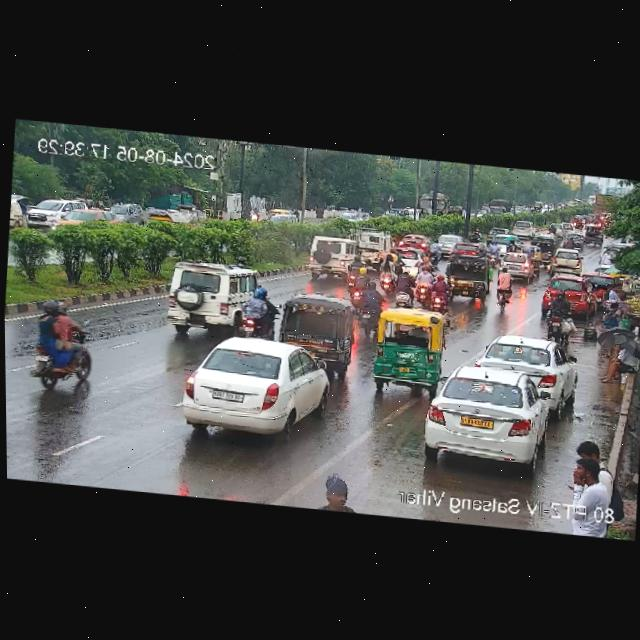car: (422, 362, 567, 471), (180, 335, 324, 441), (163, 261, 258, 336), (474, 332, 574, 400), (375, 306, 449, 394), (276, 296, 358, 360), (302, 234, 362, 284), (442, 254, 497, 299), (19, 193, 85, 227), (542, 275, 593, 310), (495, 251, 535, 280), (112, 196, 142, 234), (546, 247, 583, 273), (528, 236, 558, 266), (578, 222, 603, 244), (506, 218, 534, 236), (271, 205, 299, 223), (434, 233, 466, 247), (452, 241, 482, 255)
motorcycle: (29, 304, 94, 392), (238, 291, 276, 339), (416, 263, 451, 309), (540, 286, 574, 328), (389, 265, 418, 309), (492, 268, 516, 307)
person: (565, 442, 615, 510), (599, 327, 640, 384), (320, 471, 350, 510), (601, 283, 621, 305)
